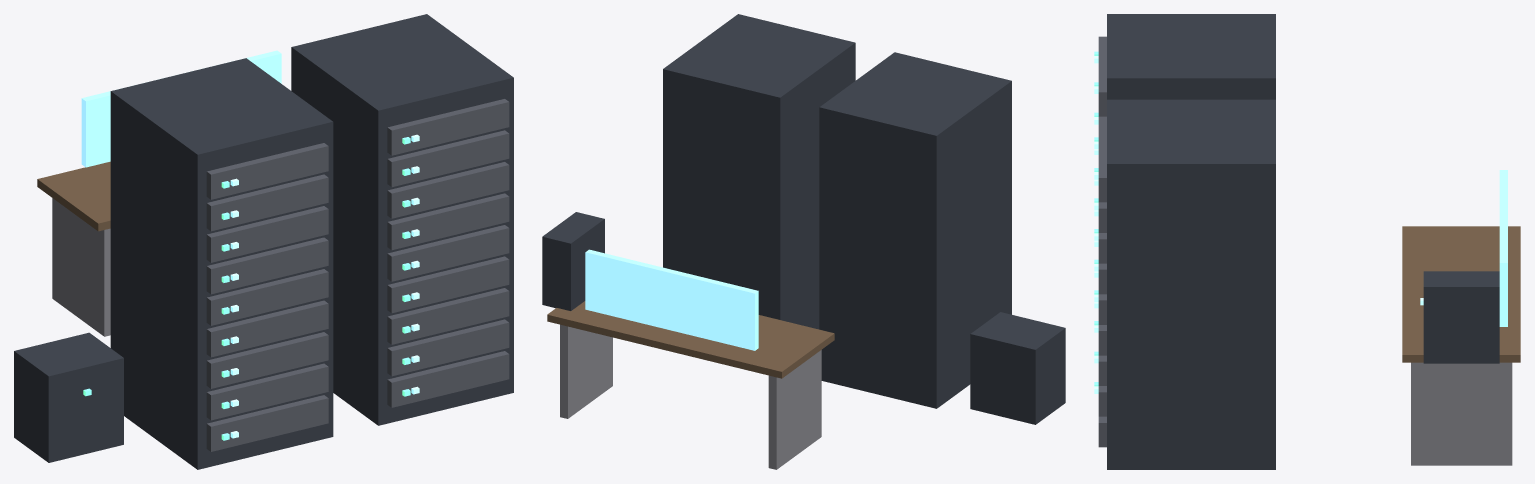
The model's file is technik.glb.
The picture shows the model from 3 angles, left to right: view 1: azimuth 30°, elevation 25°; view 2: azimuth 150°, elevation 25°; view 3: azimuth 270°, elevation 25°; orthographic projection. The views are drawn at different scales.
Parts seen in each view (by area): view 1: Technik; view 2: Technik; view 3: Technik.
Boxes of the visible parts, box(x1,y1,x2,y2) form: Technik: box(14, 14, 513, 469); Technik: box(542, 14, 1065, 469); Technik: box(1094, 14, 1520, 469).
Size of the model in its own units: 2.96 by 2 by 2.53.
